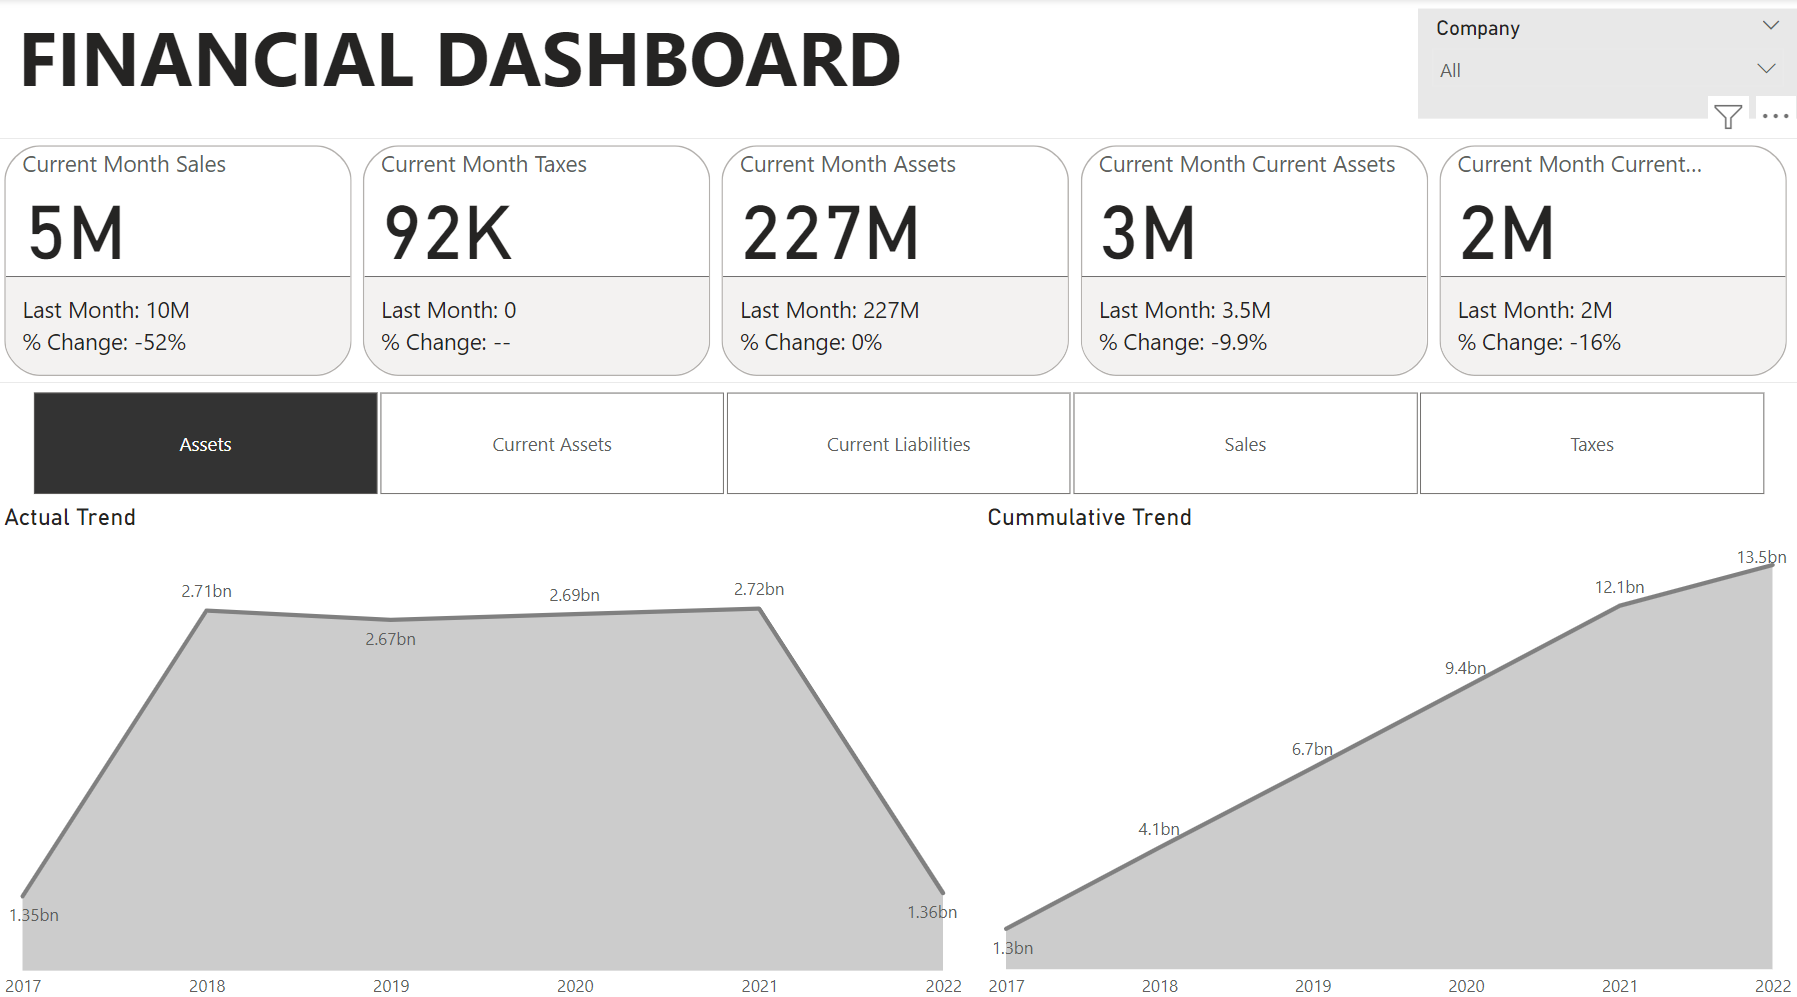

The dashboard page shown, as its layout file describes it:
{"tool":"powerbi","page":{"name":"Page 1","canvas":[1280,720],"ordinal":0},"visuals":[{"type":"textbox","box":[10,0,884.3,90.8],"z":0},{"type":"slicer","fields":{"Values":["Financials.Company"]},"box":[1009.9,7.5,269.9,78.4],"z":1000},{"type":"cardVisual","fields":{"Data":["Financials.#CM Sales","Financials.#CM Taxes","Financials.#CM Assets","Financials.#CM Current Assets","Financials.#CM Current Liabilities"]},"box":[0,99.5,1279.8,174.1],"z":2000},{"type":"slicer","fields":{"Values":["KPI Measure.KPI Measure"]},"box":[0,273.6,1279.8,85.8],"z":3000},{"type":"areaChart","title":"Actual Trend","fields":{"Category":["Financials.Month.Variation.Date Hierarchy.Year","Financials.Month.Variation.Date Hierarchy.Quarter","Financials.Month.Variation.Date Hierarchy.Month"],"Y":["Financials.#Selected KPI"]},"box":[0,359.3,690.3,360.7],"z":4000},{"type":"areaChart","title":"Cummulative Trend","fields":{"Category":["Financials.Month.Variation.Date Hierarchy.Year","Financials.Month.Variation.Date Hierarchy.Quarter","Financials.Month.Variation.Date Hierarchy.Month"],"Y":["Financials.#Cummulative KPI"]},"box":[699,359.3,580.8,360.7],"z":5000}]}

Visuals, with their boxes in screenshot pixels (x1, y1, x2, y2), scaled from the page's 1280x720 canvas onto the 1797x997 screenshot:
textbox: Rect(14, 0, 1256, 126)
slicer - Financials.Company: Rect(1418, 10, 1796, 119)
cardVisual - Financials.#CM Sales x Financials.#CM Taxes: Rect(0, 138, 1796, 379)
slicer - KPI Measure.KPI Measure: Rect(0, 379, 1796, 498)
"Actual Trend" areaChart: Rect(0, 498, 969, 996)
"Cummulative Trend" areaChart: Rect(981, 498, 1796, 996)
